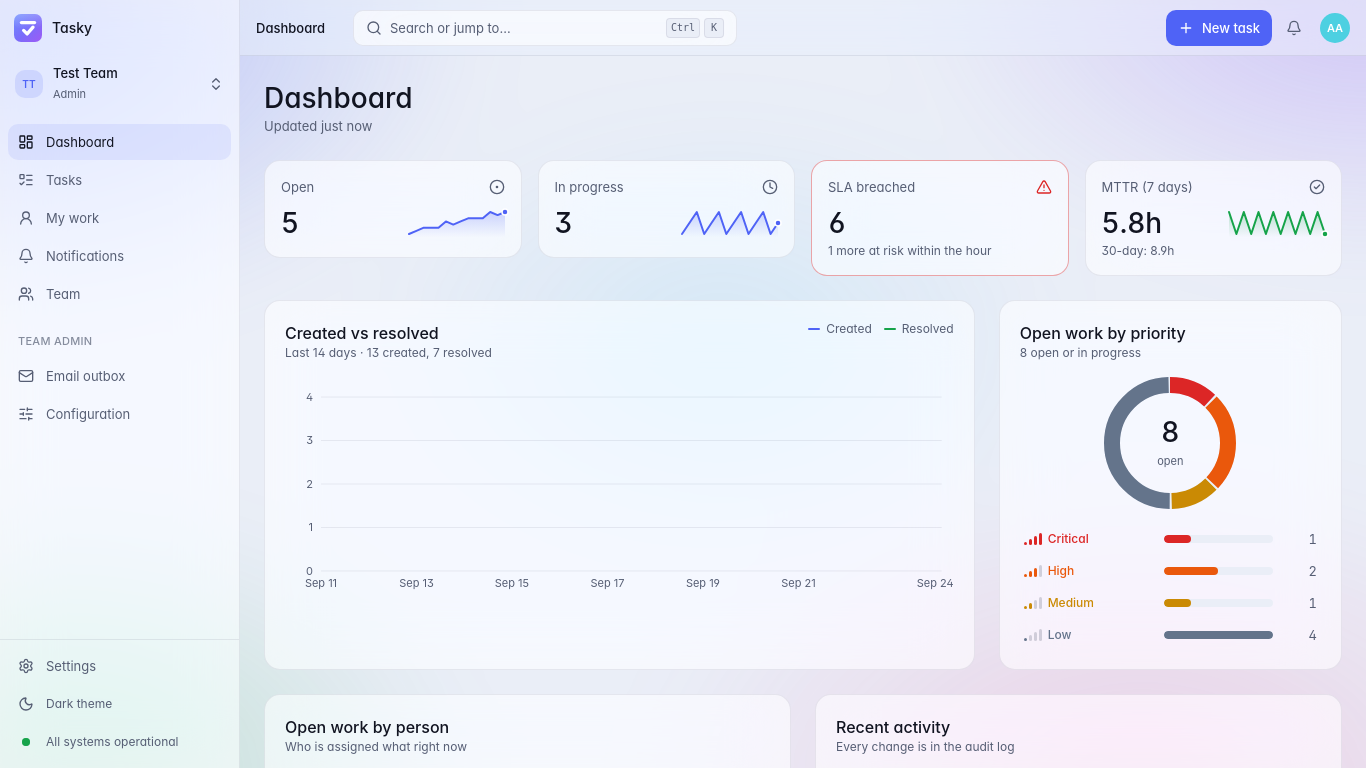
Scenario: authentication flow › signs out and returns to the login page
Expected: the heading "Dashboard" is shown, x1=264 y1=80 x2=413 y2=116
Click the button with aria-label "Account menu": (1335, 28) x1=1320 y1=12 x2=1350 y2=42
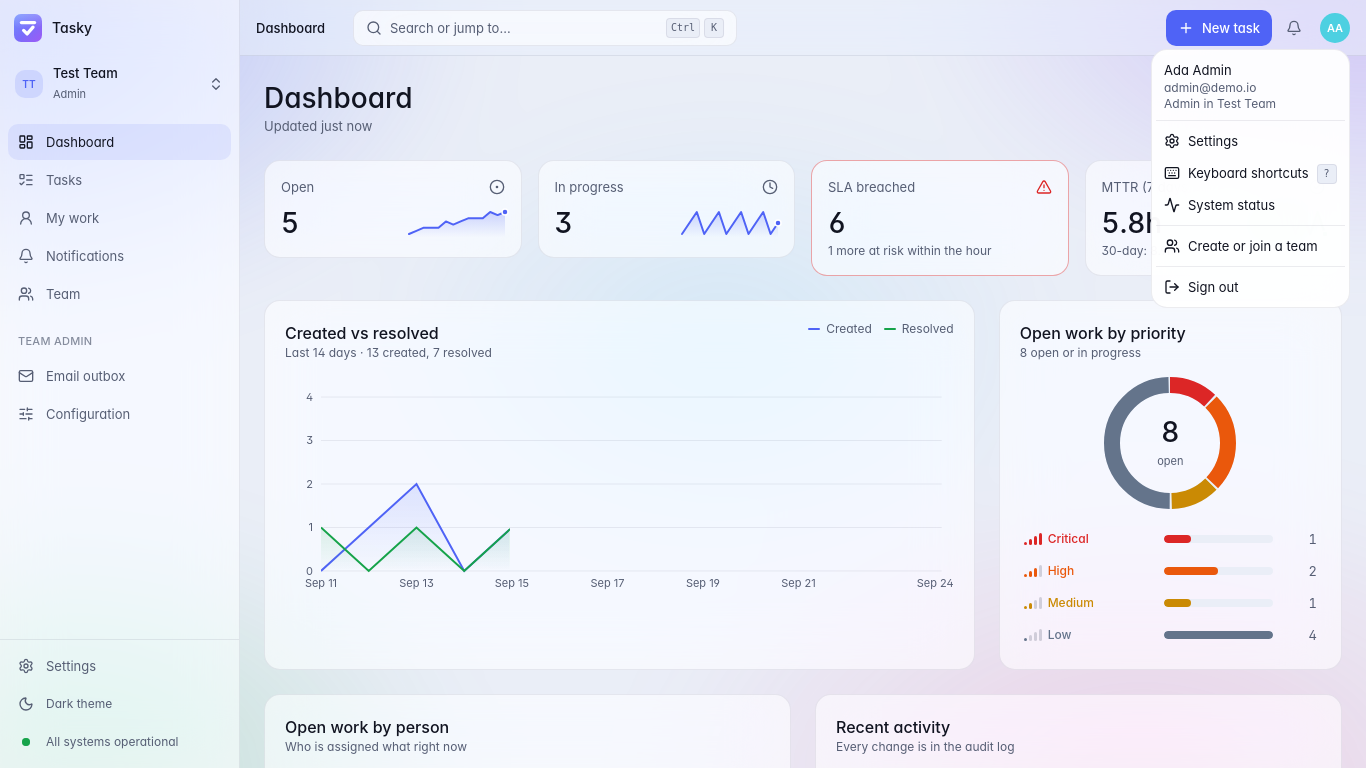
Click the menu item "Sign out": (1201, 287) x1=1164 y1=279 x2=1238 y2=295
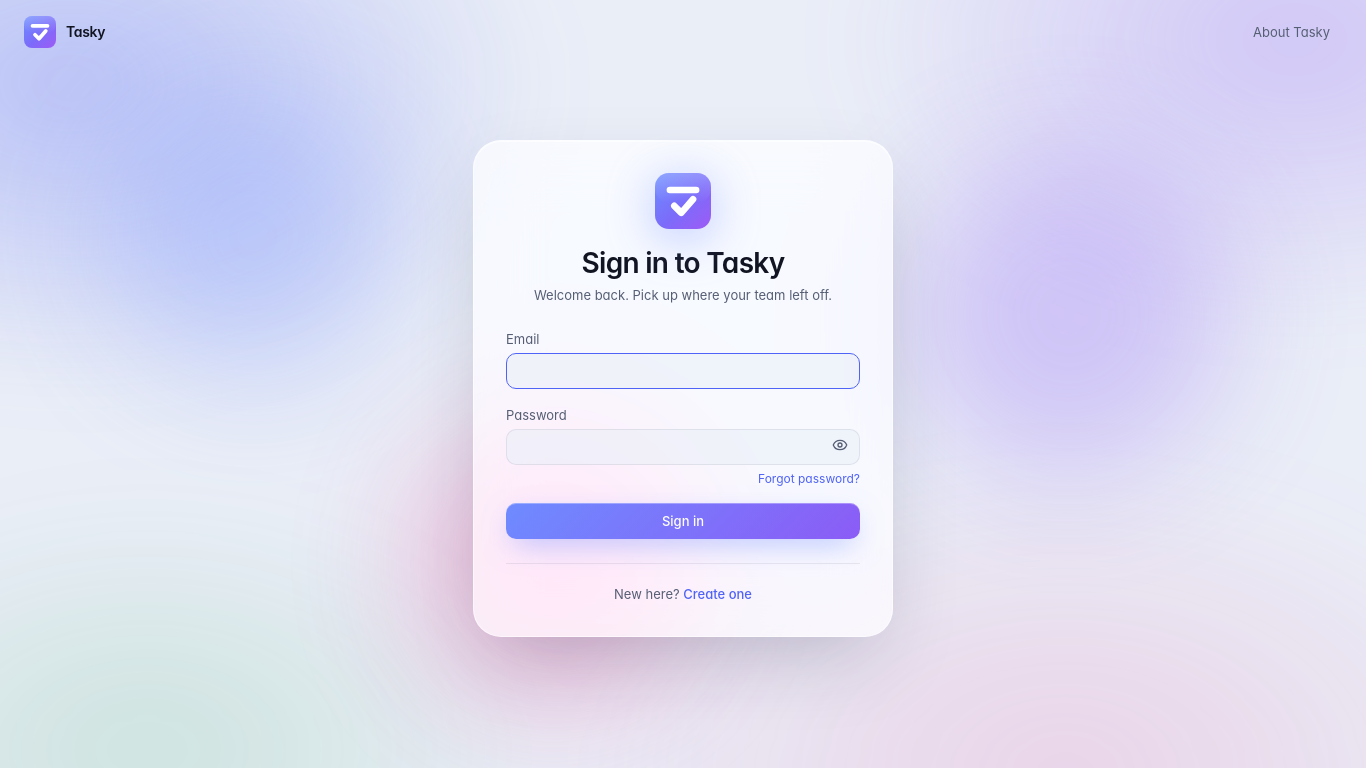
Result: the heading "Sign in to Tasky" is shown at x1=582 y1=244 x2=784 y2=280
